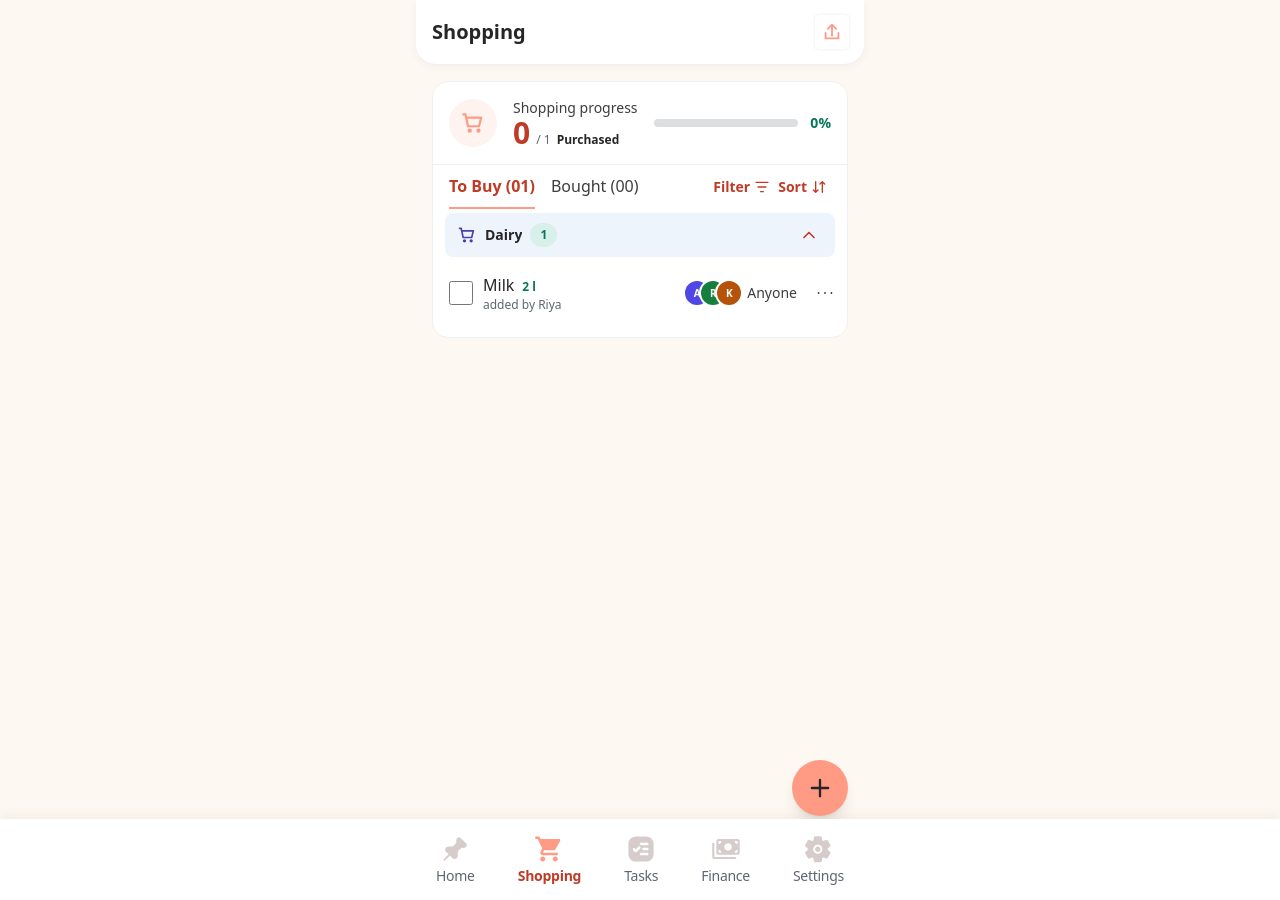
Scenario: grocery list › a concurrent purchase (conflict) refreshes the list and explains
The width and height of the screenshot is (1280, 900).
Click the checkbox named "Mark Milk as purchased": (461, 293) 449,281 -> 473,305
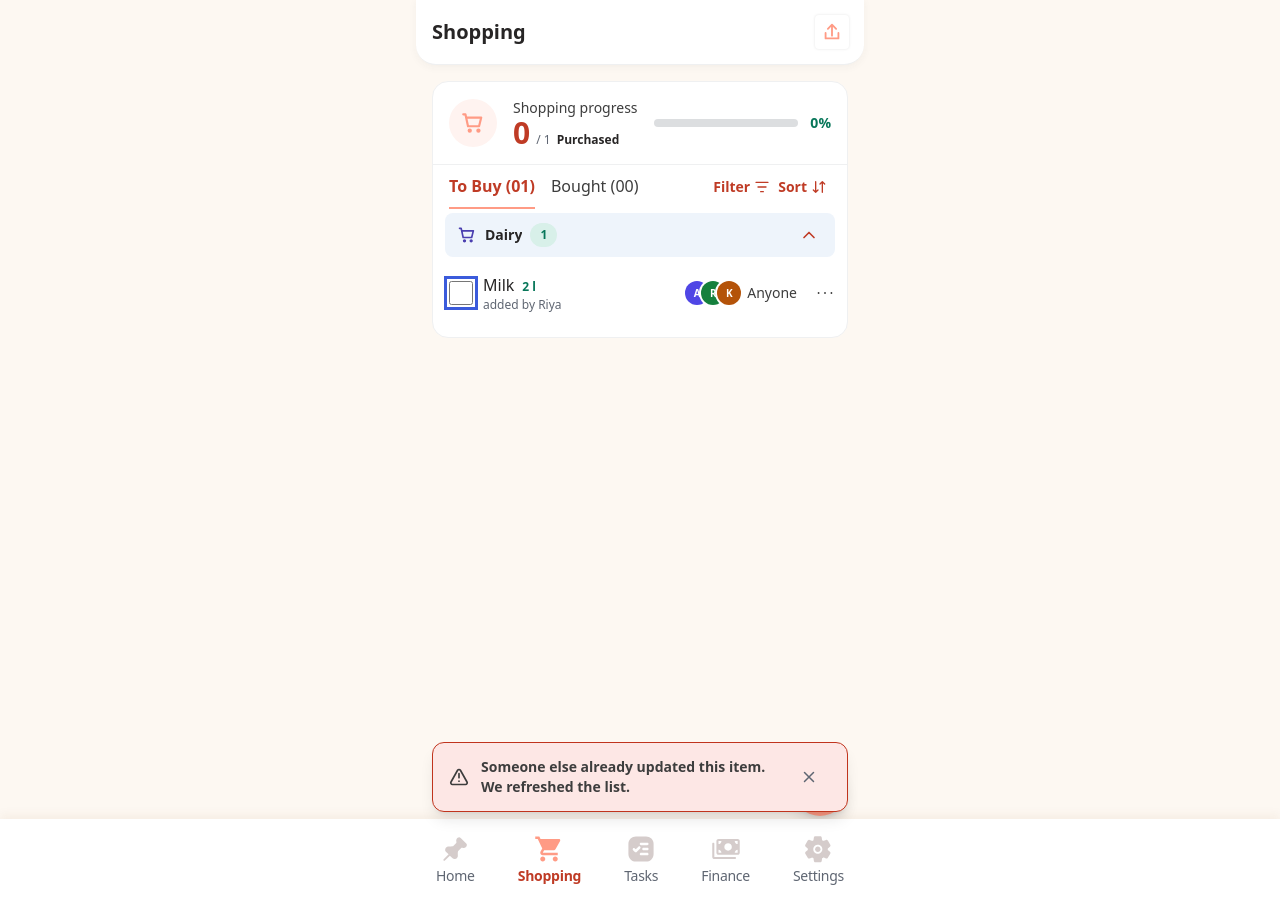
Now the text "Someone else already updated this item. We refreshed the list." is shown, box 481,757 -> 775,797
